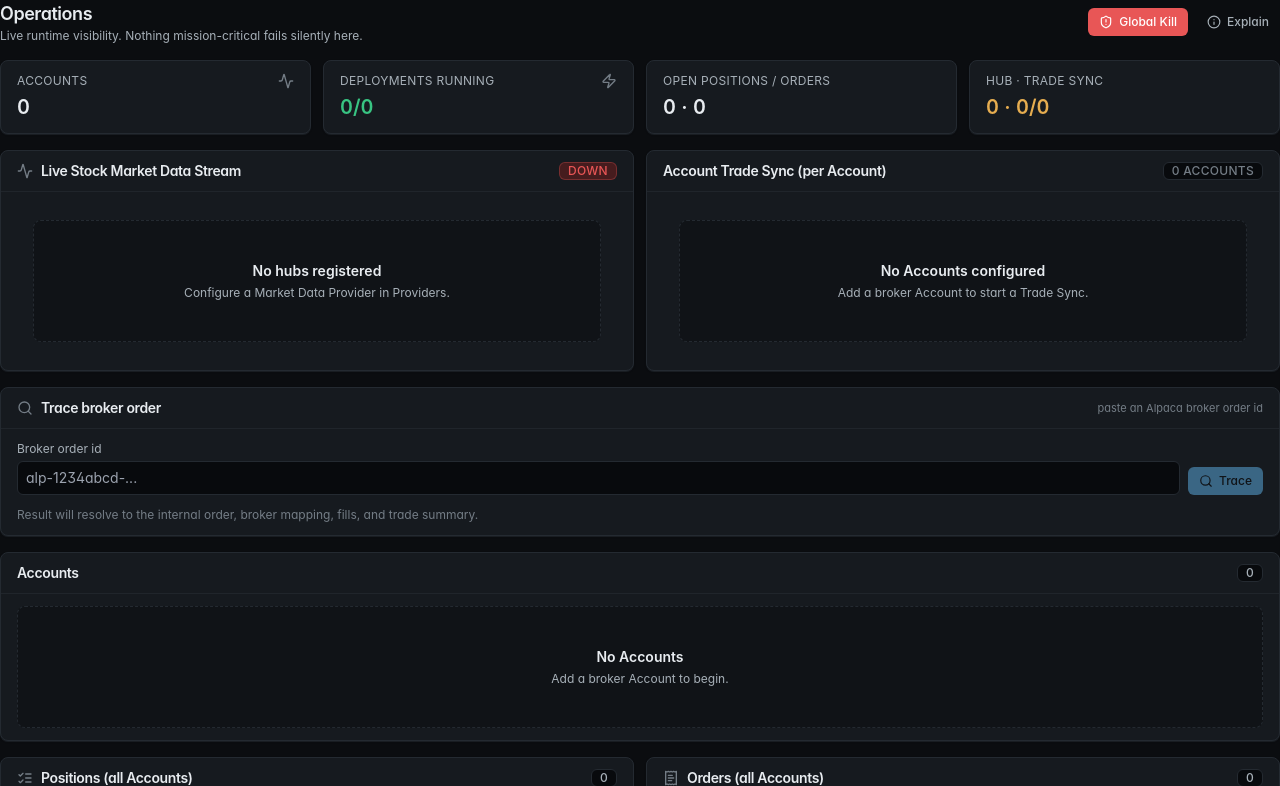
Test: <Operations /> › traces an Alpaca broker order id back to internal order detail
Expected: the text "Trace broker order" is shown, [17, 398, 161, 418]
Type "alp-deadbeef-1234" into the field labelled "Broker order id" at (598, 478), box [17, 461, 1180, 495]
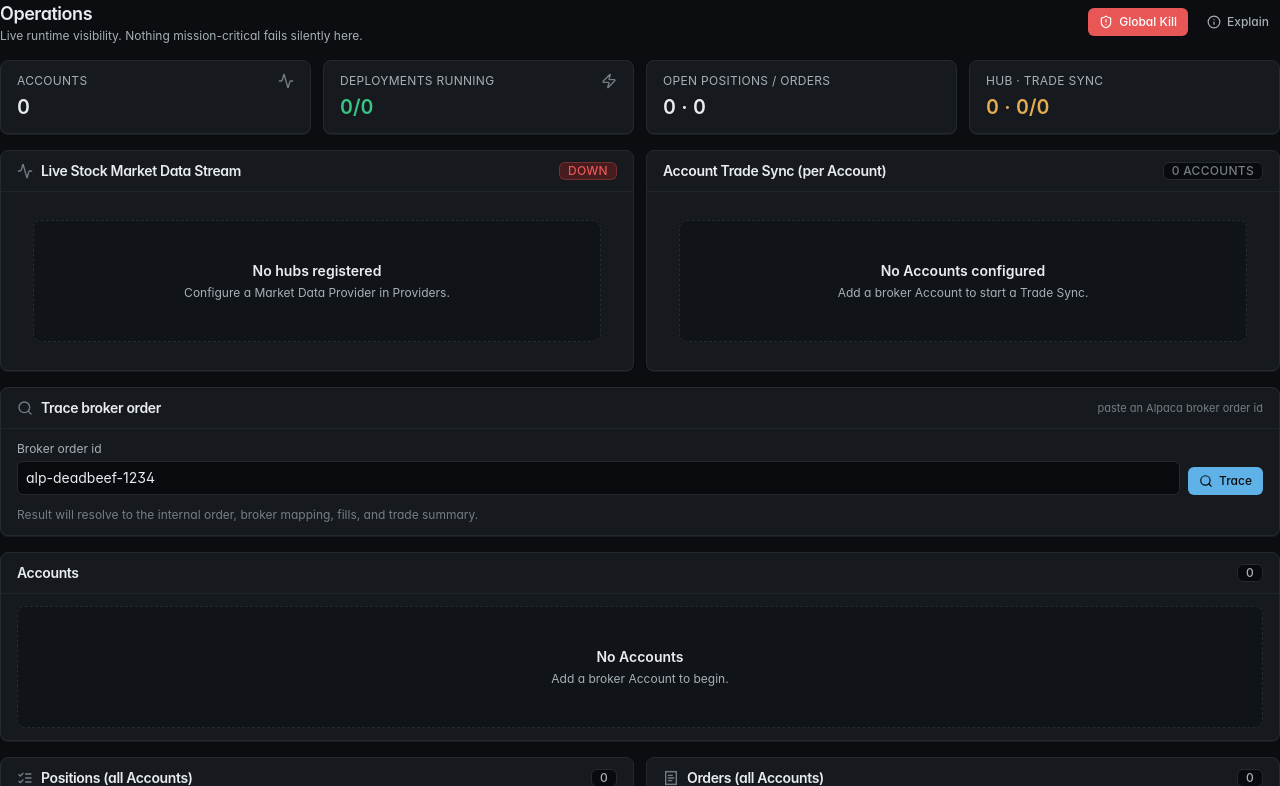
Click the button "Trace" at (1226, 481), box [1188, 467, 1263, 495]
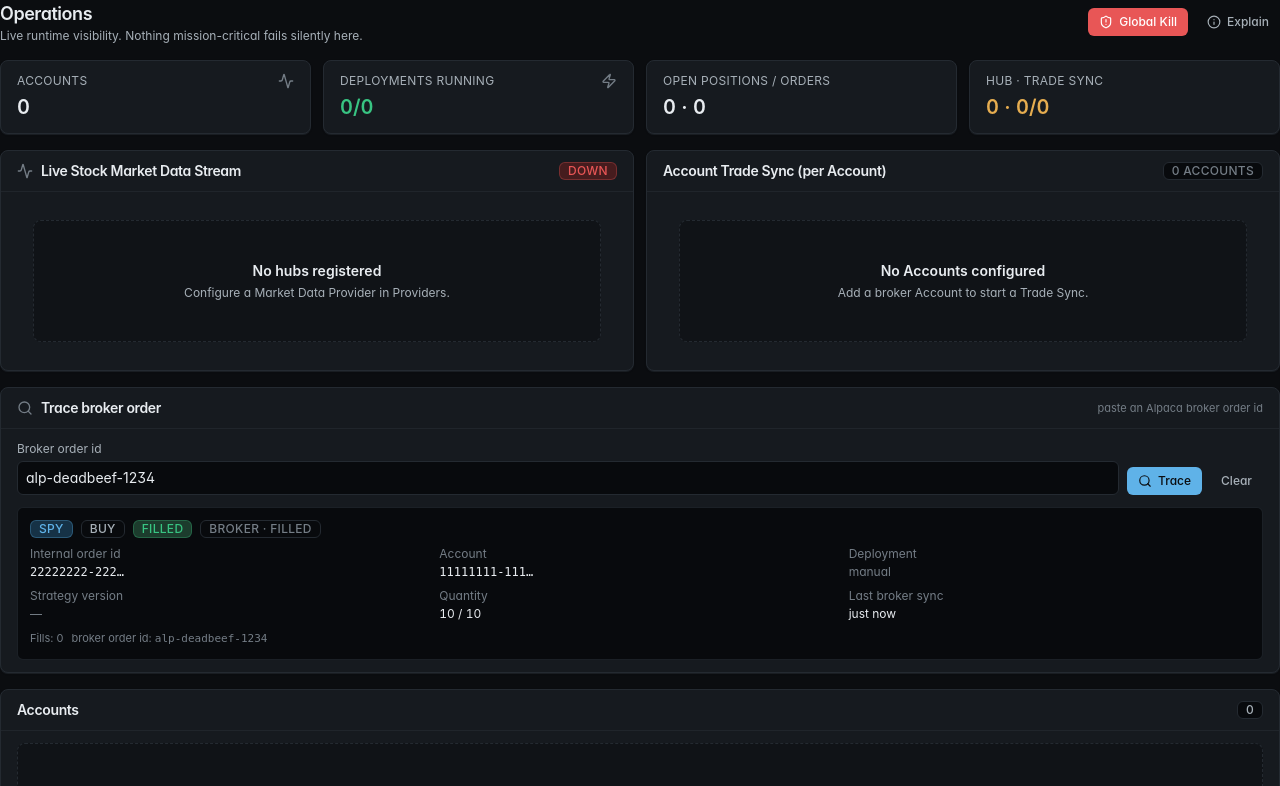
Expected: the text "SPY" is shown, [30, 520, 73, 538]
